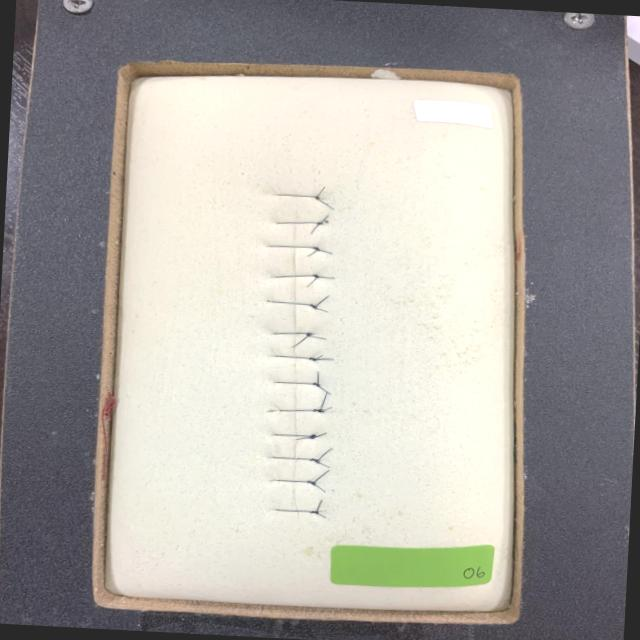knot: (310, 407, 327, 415), (307, 457, 322, 466), (307, 302, 320, 311), (304, 479, 318, 487), (304, 331, 318, 339), (307, 433, 320, 441), (310, 245, 323, 253), (306, 356, 320, 363), (307, 509, 321, 516), (310, 381, 322, 389), (310, 273, 322, 280), (312, 194, 322, 202), (315, 220, 326, 227)
leftover: (312, 469, 330, 484), (316, 447, 333, 462), (292, 335, 310, 348), (317, 198, 335, 210), (314, 295, 330, 308), (320, 391, 328, 412), (305, 276, 319, 288), (318, 385, 332, 395), (307, 334, 327, 340), (310, 223, 320, 235), (316, 186, 326, 198), (312, 432, 328, 439), (314, 484, 326, 493), (306, 249, 319, 257), (316, 499, 323, 513), (320, 214, 329, 224), (318, 249, 333, 255), (315, 307, 329, 313), (315, 512, 327, 519), (318, 462, 331, 468), (295, 436, 314, 440), (322, 406, 333, 412), (316, 276, 336, 279), (315, 354, 324, 360), (315, 358, 335, 360), (317, 370, 319, 385)
stitch: (265, 300, 318, 309), (271, 457, 320, 464), (269, 245, 320, 251), (276, 479, 316, 486), (276, 381, 320, 387), (277, 194, 319, 200), (274, 355, 318, 360), (275, 509, 319, 514), (273, 434, 315, 439), (272, 332, 310, 336), (276, 222, 322, 225), (279, 409, 324, 412), (275, 275, 319, 278)
wound: (292, 188, 300, 519)
